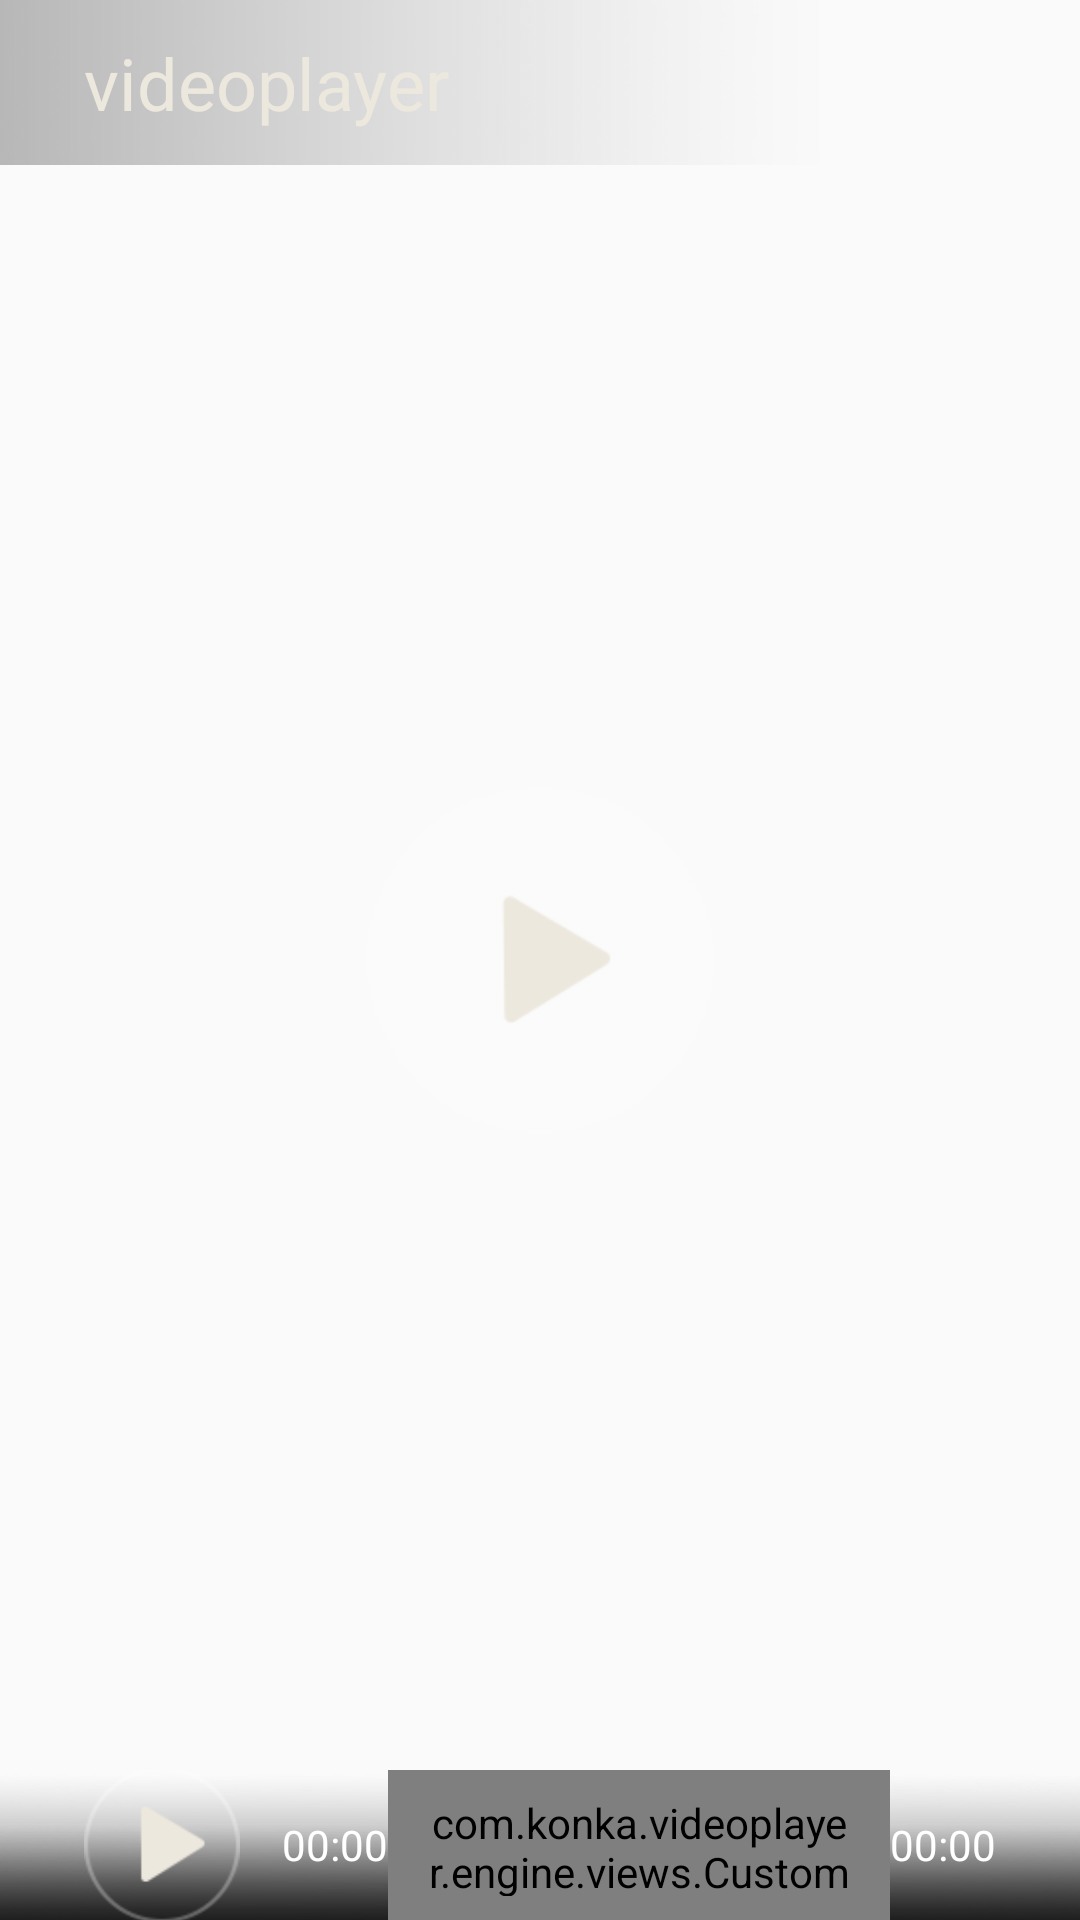

Icons on this 1080*1920 Android screen, each with the point to tap as (x,y):
play: (557,959), (162,1845)
